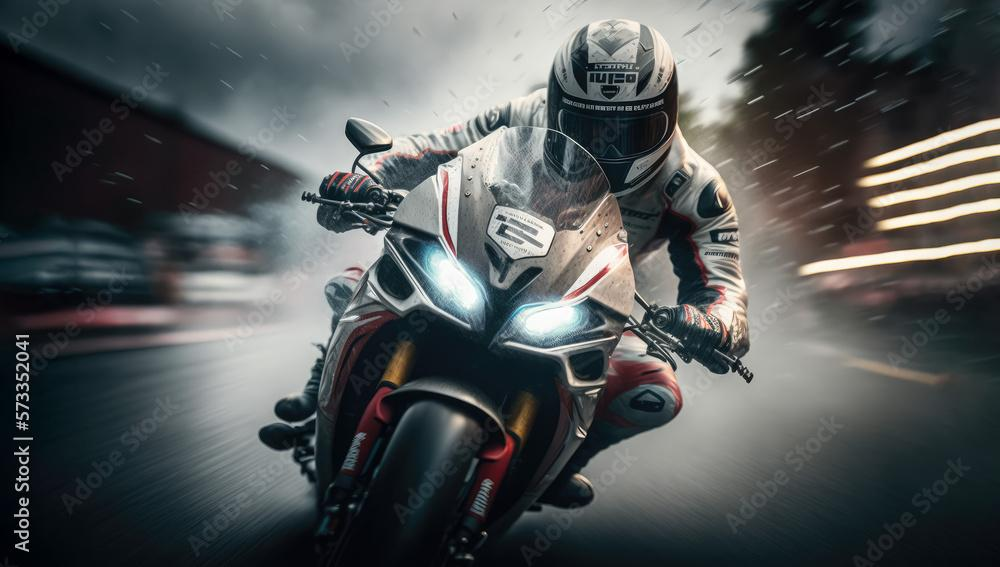helmet: (546, 17, 680, 199)
